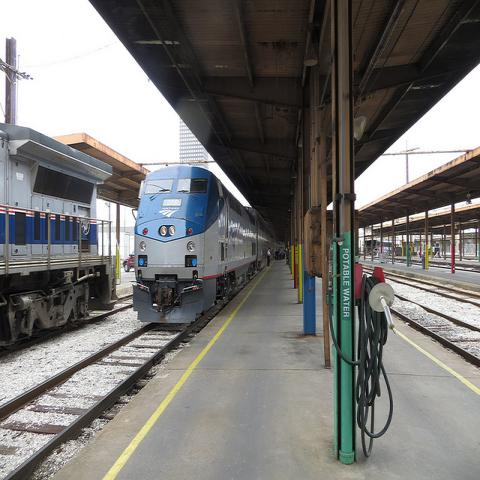car: (123, 249, 134, 270), (374, 248, 380, 255)
